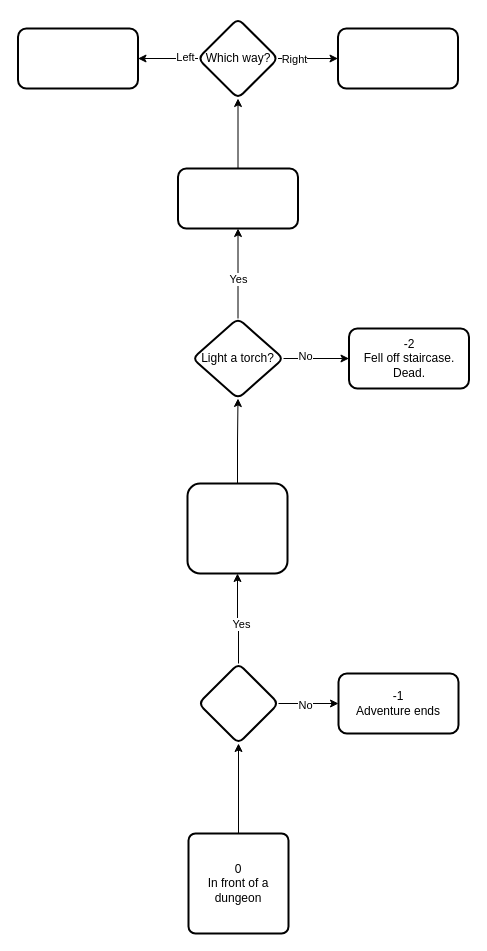
Image size: 487x951. Some labels were removed from this diagram. Here are the shapes that lost their labels. From the top down, the centre of each, then its label:
(x=237, y=198): 2 staircase, junction
(x=237, y=528): 1 Dark
(x=238, y=703): Go in?
